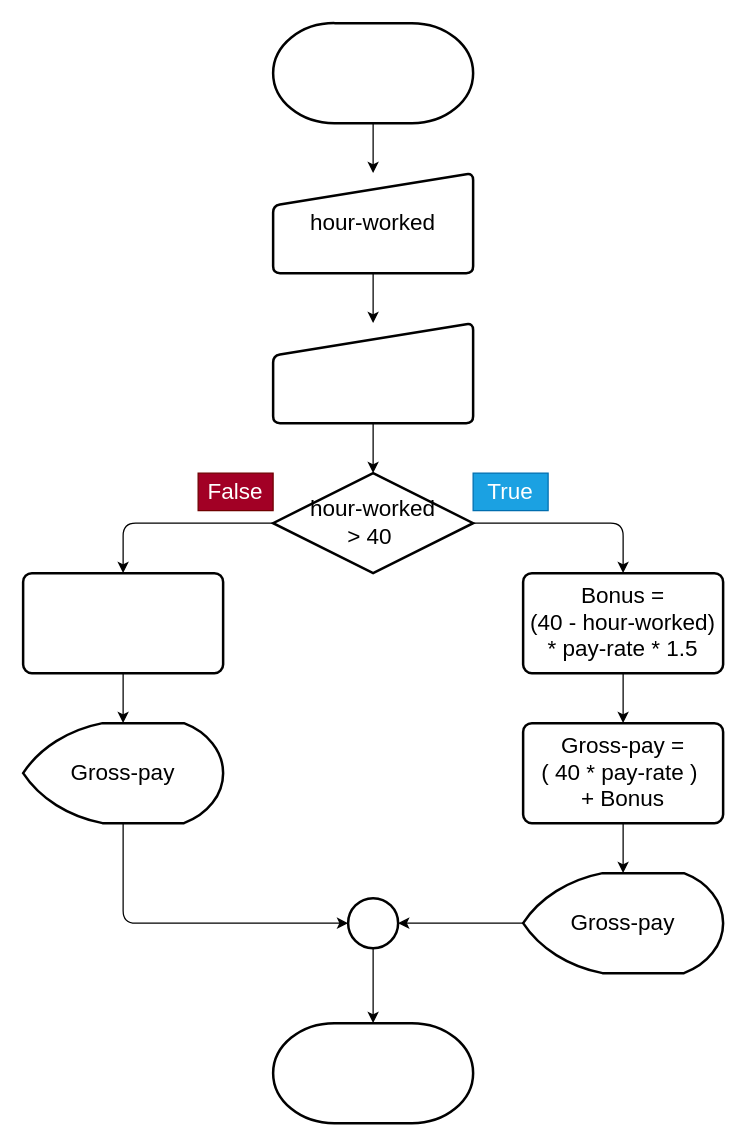
The diagram is 745 pixels wide and 1145 high, and some of its shapes have lost their labels. The box of each missing label's shape, as (x1, y1, x2, y2) in pixels:
End: (271, 1021, 474, 1124)
Gross-pay = hour-worked * payrate: (21, 571, 224, 674)
pay-rate: (271, 321, 474, 424)
Start: (271, 21, 474, 124)
